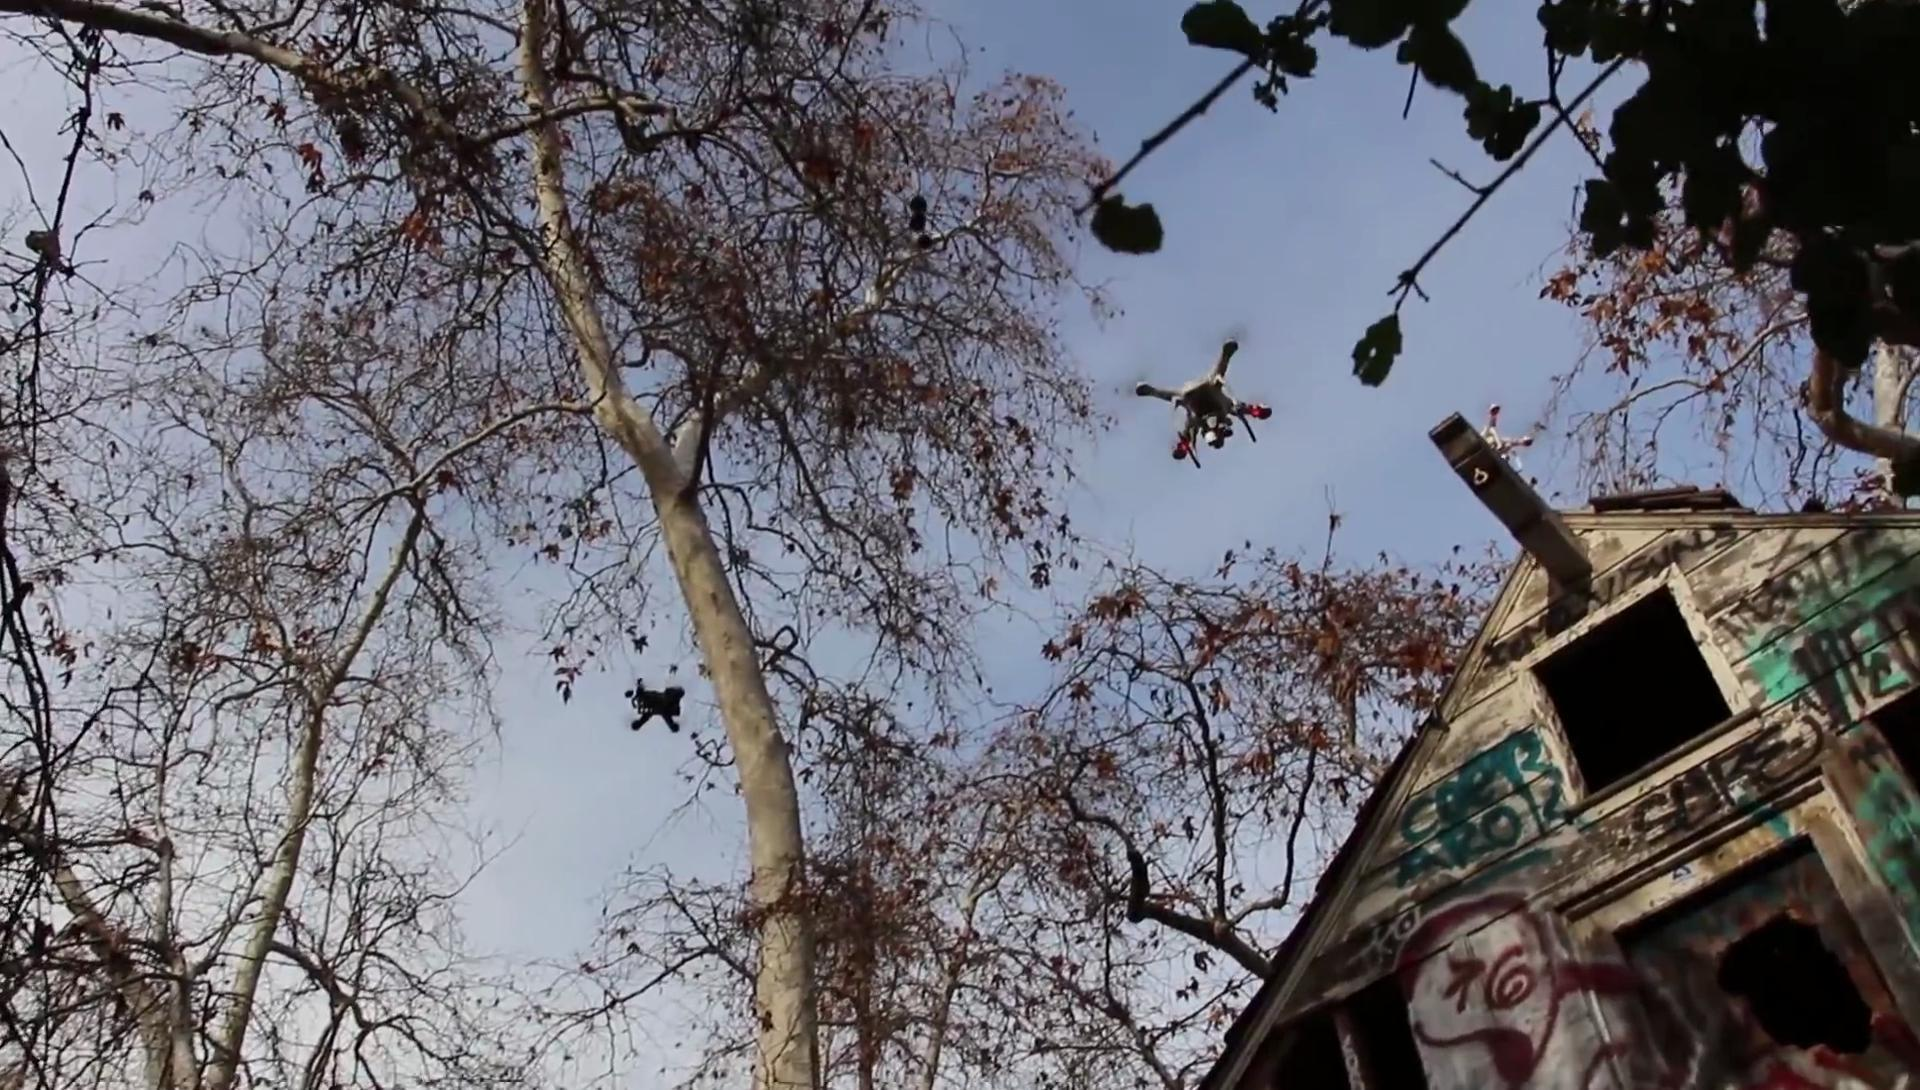drone: (1131, 331, 1271, 469)
